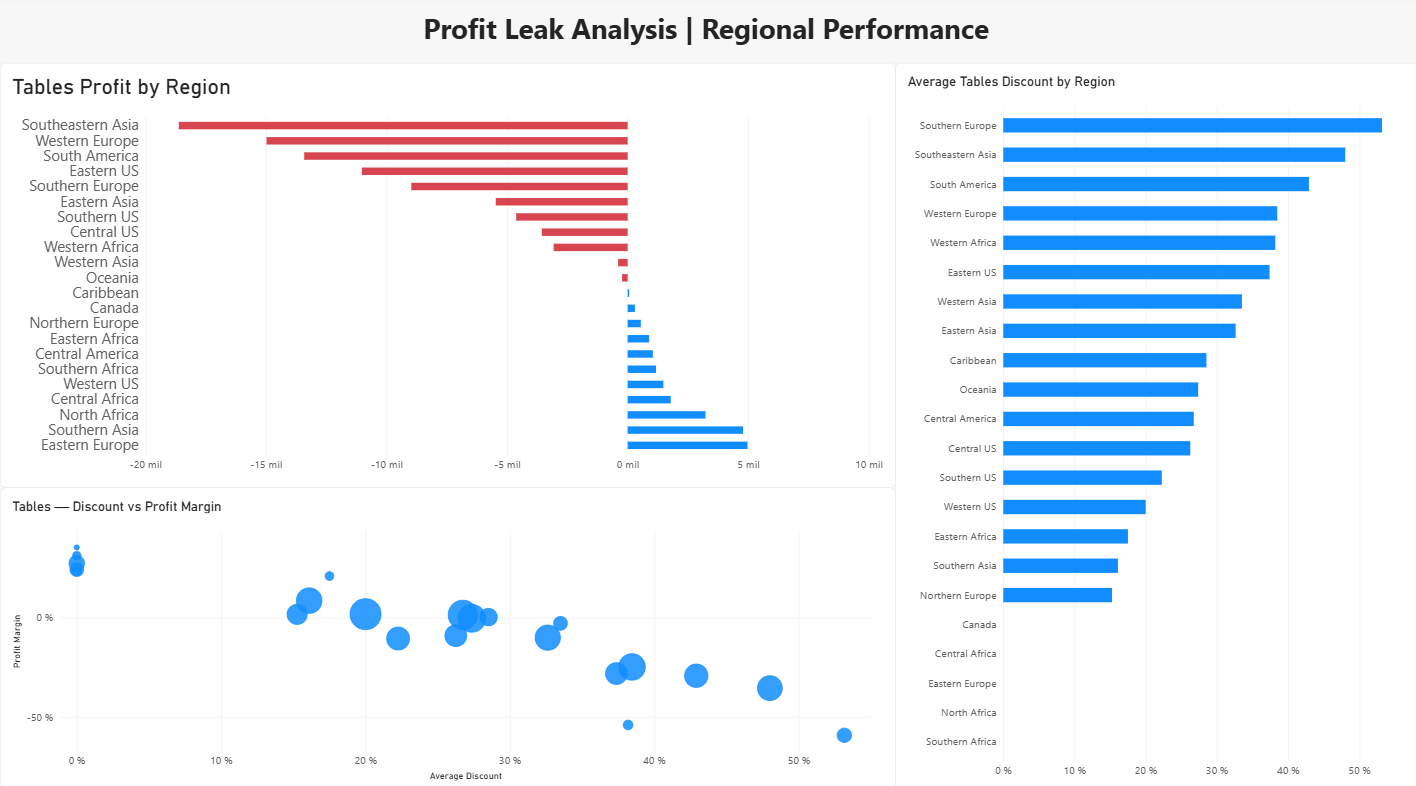

What the dashboard file says about the page in this screenshot:
{"tool":"powerbi","page":{"name":"Regional Performance","canvas":[1920,1080],"ordinal":2},"visuals":[{"type":"barChart","title":"Tables Profit by Region","fields":{"Category":["profit_leak_analysis orders_clean.region"],"Y":["profit_leak_analysis orders_clean.Total Profit"]},"box":[0,93.1,1210.6,574.6],"z":0},{"type":"barChart","title":"Average Tables Discount by Region","fields":{"Category":["profit_leak_analysis orders_clean.region"],"Y":["profit_leak_analysis orders_clean.Average Discount"]},"box":[1210.6,93.1,708.6,988],"z":1000},{"type":"scatterChart","title":"Tables — Discount vs Profit Margin","fields":{"Category":["profit_leak_analysis orders_clean.region"],"Size":["profit_leak_analysis orders_clean.Total Sales"],"X":["profit_leak_analysis orders_clean.Average Discount"],"Y":["profit_leak_analysis orders_clean.Profit Margin"]},"box":[0,667.8,1210.6,413.4],"z":2000},{"type":"textbox","box":[554.2,20.4,801.8,54.5],"z":3000}]}

Visuals, with their boxes in screenshot pixels (x1, y1, x2, y2), scaled from the page's 1920x1080 canvas onto the 1416x786 screenshot:
"Tables Profit by Region" barChart: x1=0, y1=68, x2=893, y2=486
"Average Tables Discount by Region" barChart: x1=893, y1=68, x2=1415, y2=785
"Tables — Discount vs Profit Margin" scatterChart: x1=0, y1=486, x2=893, y2=785
textbox: x1=409, y1=15, x2=1000, y2=55
